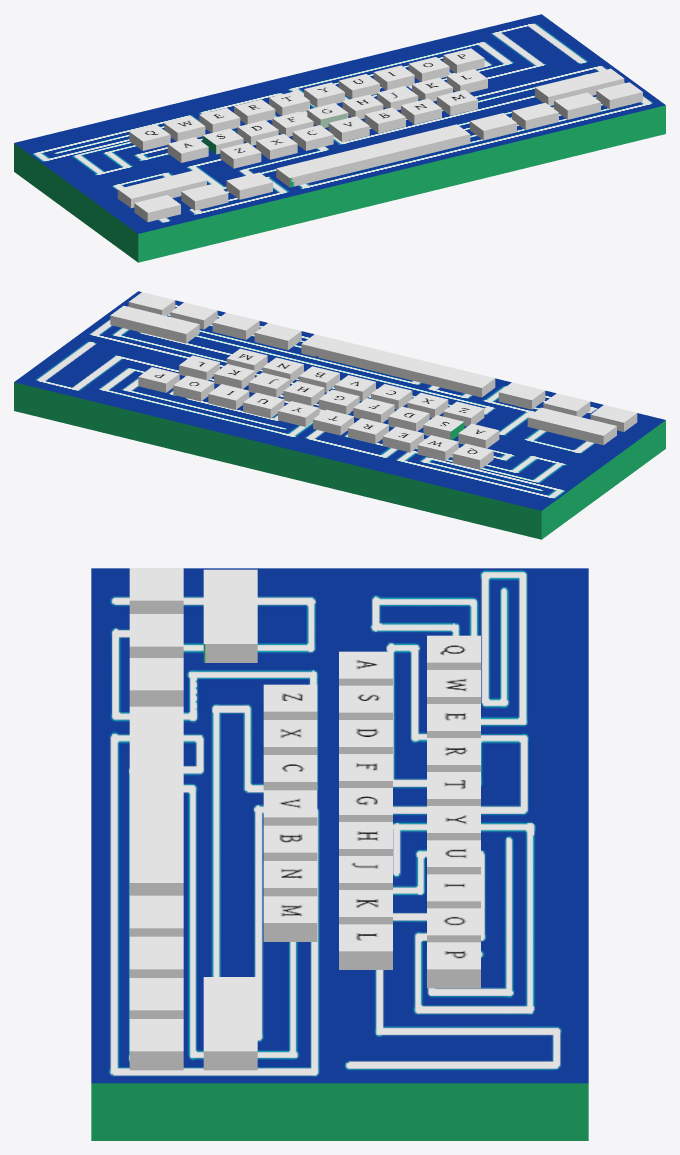
File: teclat.FBX
3 views of the same model, one above another, from view 1: azimuth 30°, elevation 25°; view 2: azimuth 150°, elevation 25°; view 3: azimuth 270°, elevation 25° (orthographic). The views are drawn at different scales.
Visible parts, largest first — view 1: Box010; view 2: Box010; view 3: Box010.
Part boxes in pixels (box(x1,y1,x2,y2)): Box010: box(14, 14, 665, 262); Box010: box(14, 291, 665, 539); Box010: box(91, 568, 588, 1140).
Bounding box in the file's own units: 36.91 × 2.55 × 15.06.
Materials: 1 (1 with a texture image).
